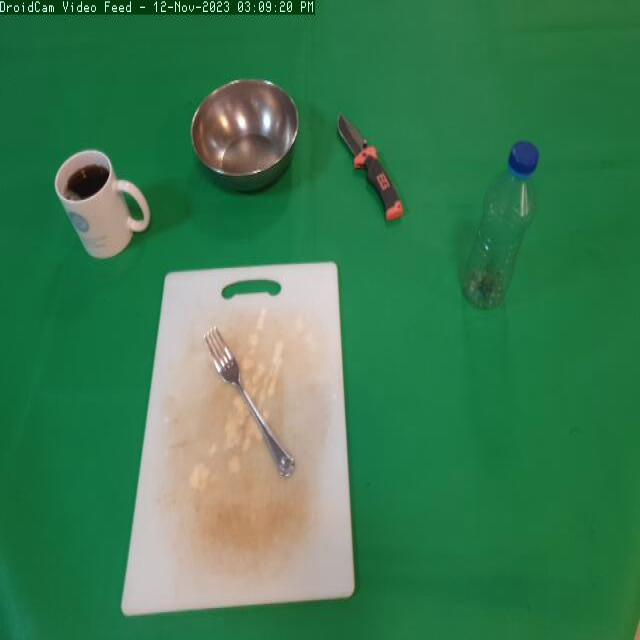bottle: (454, 133, 542, 334)
bowl: (188, 74, 300, 205)
cutting board: (114, 249, 364, 634)
fork: (200, 319, 299, 489)
fullcup: (51, 143, 156, 277)
knife: (330, 109, 404, 231)
